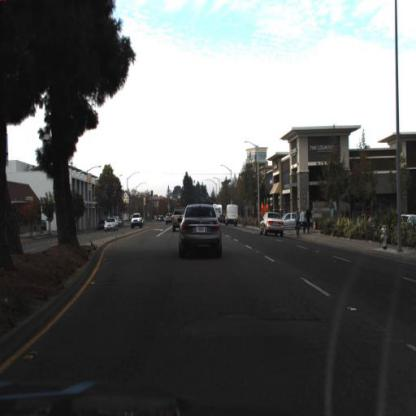car: (178, 202, 225, 260), (260, 212, 286, 241), (225, 201, 242, 230), (284, 208, 301, 237), (172, 209, 185, 235), (104, 216, 120, 236), (130, 211, 146, 230), (294, 208, 303, 239)
pedestrian: (294, 206, 302, 240), (306, 203, 314, 235), (305, 207, 314, 233), (303, 207, 308, 236)
truck: (226, 205, 239, 226)
